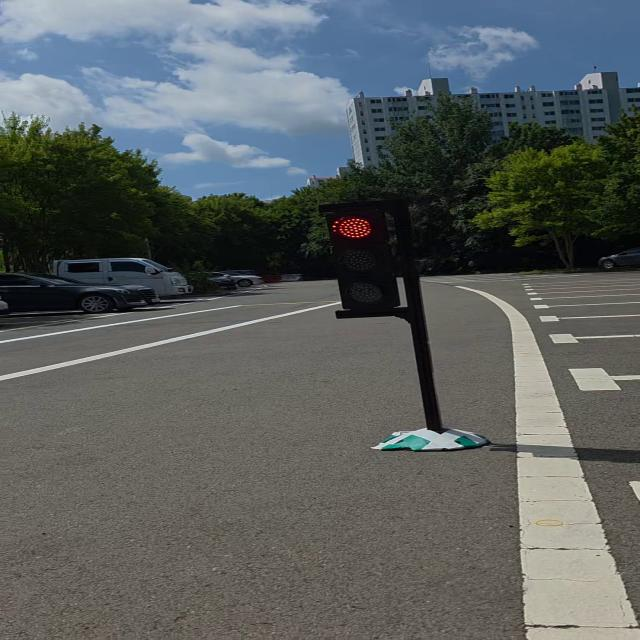red: (312, 205, 410, 312)
